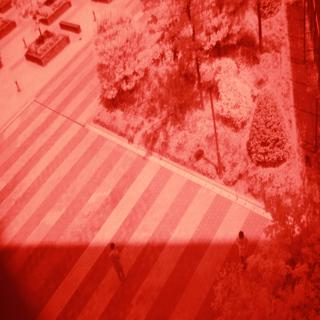person: (232, 227, 254, 284), (105, 236, 127, 285)
